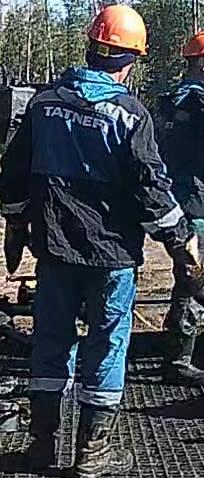gloves: (163, 232, 204, 297), (0, 212, 31, 278)
helmet: (86, 3, 148, 56), (182, 30, 203, 57)
vest: (25, 84, 146, 268), (151, 81, 203, 217)
